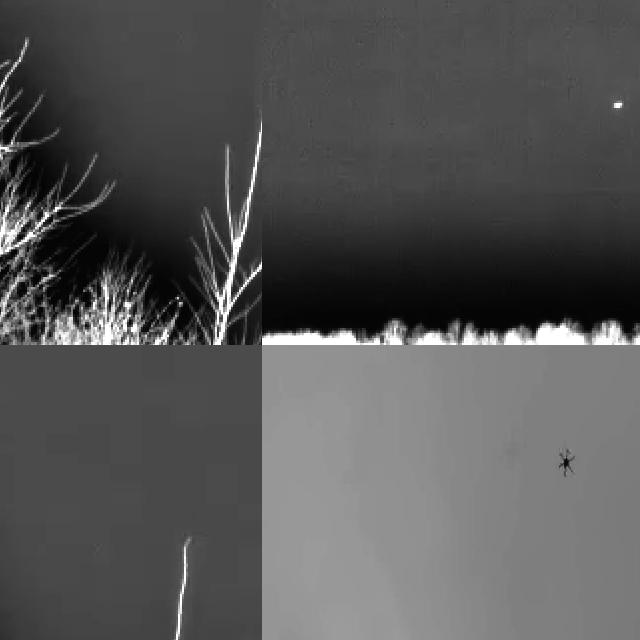1: (608, 96, 634, 120)
drone: (554, 444, 581, 479)
